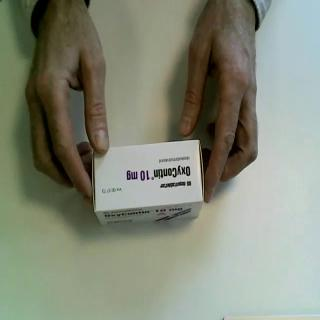oxycontin10mg: (92, 140, 206, 228)
